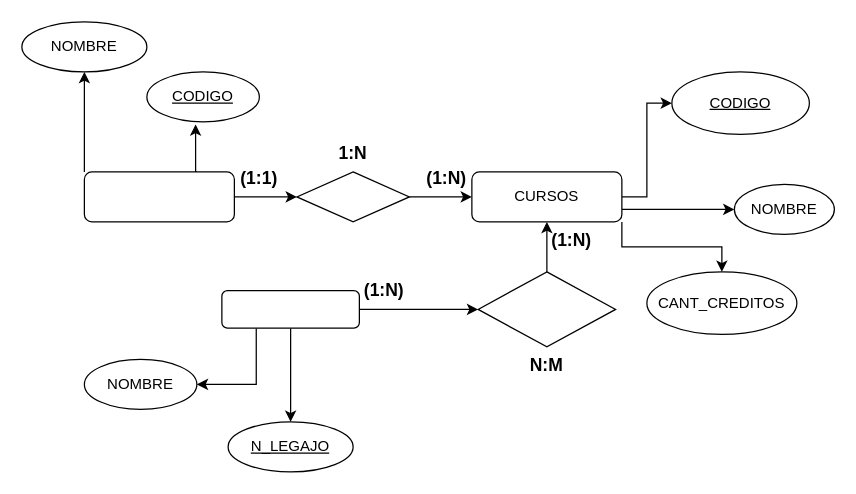
Some shapes in this 856 by 494 pixel diagram are drawn without their labels. Each missing label, with the centre of its shape:
DEPARTAMENTOS: the point at 158,196
ESTUDIANTES: the point at 290,308
MATRICULAS: the point at 546,309
OFRECE: the point at 352,196
